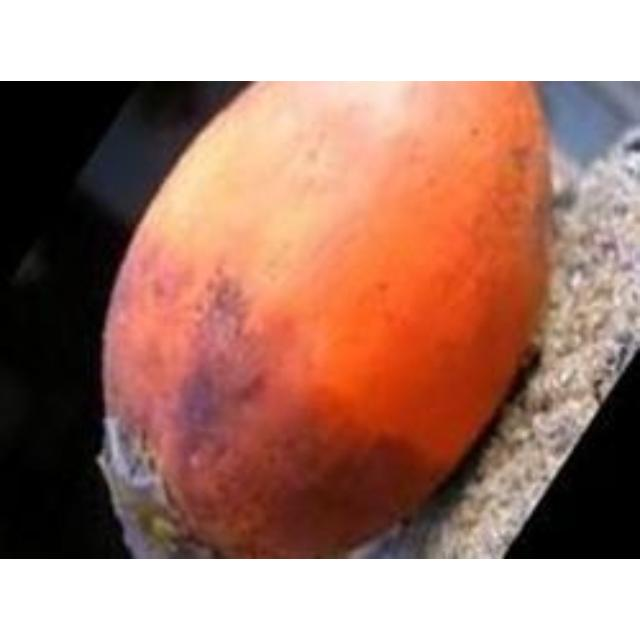good: (95, 81, 556, 557)
